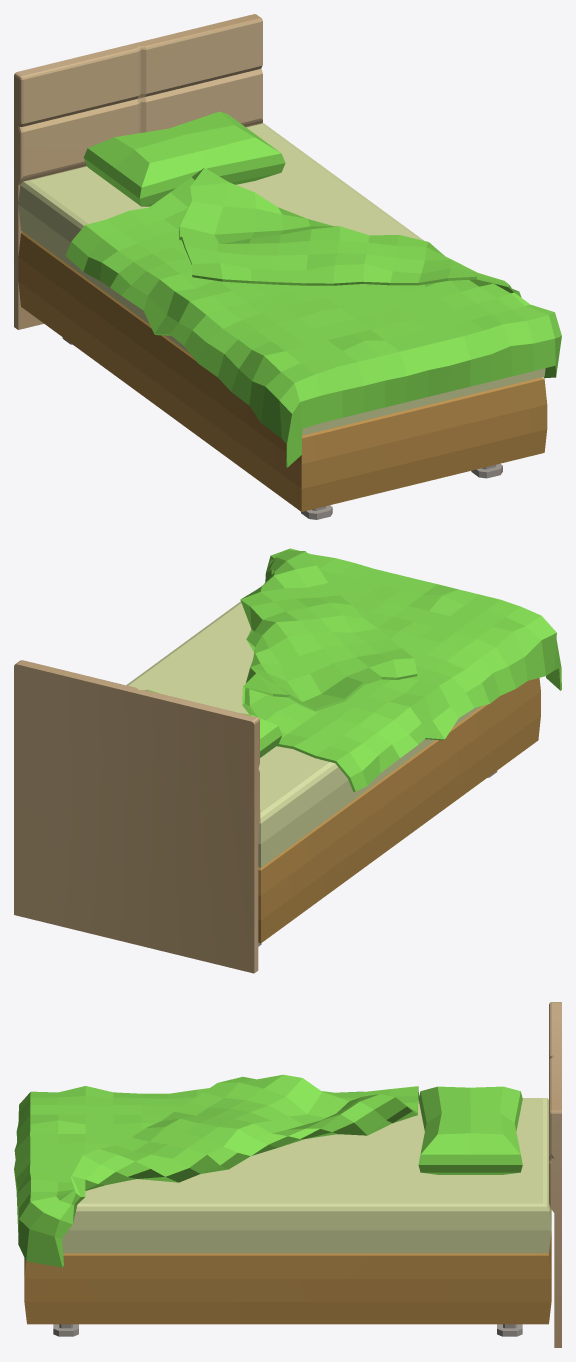
The model's file is Yatak.fbx.
3 views of the same model, one above another, from view 1: azimuth 30°, elevation 25°; view 2: azimuth 150°, elevation 25°; view 3: azimuth 270°, elevation 25° (orthographic). The views are drawn at different scales.
Parts seen in each view (by area): view 1: Yatak; view 2: Yatak; view 3: Yatak.
Part boxes in pixels (x1,y1,x2,y2): Yatak: (14,14,561,519); Yatak: (14,548,561,973); Yatak: (14,1002,561,1347).
Size of the model in its own units: 120 by 100 by 210.
Materials: 2 (1 with a texture image).
